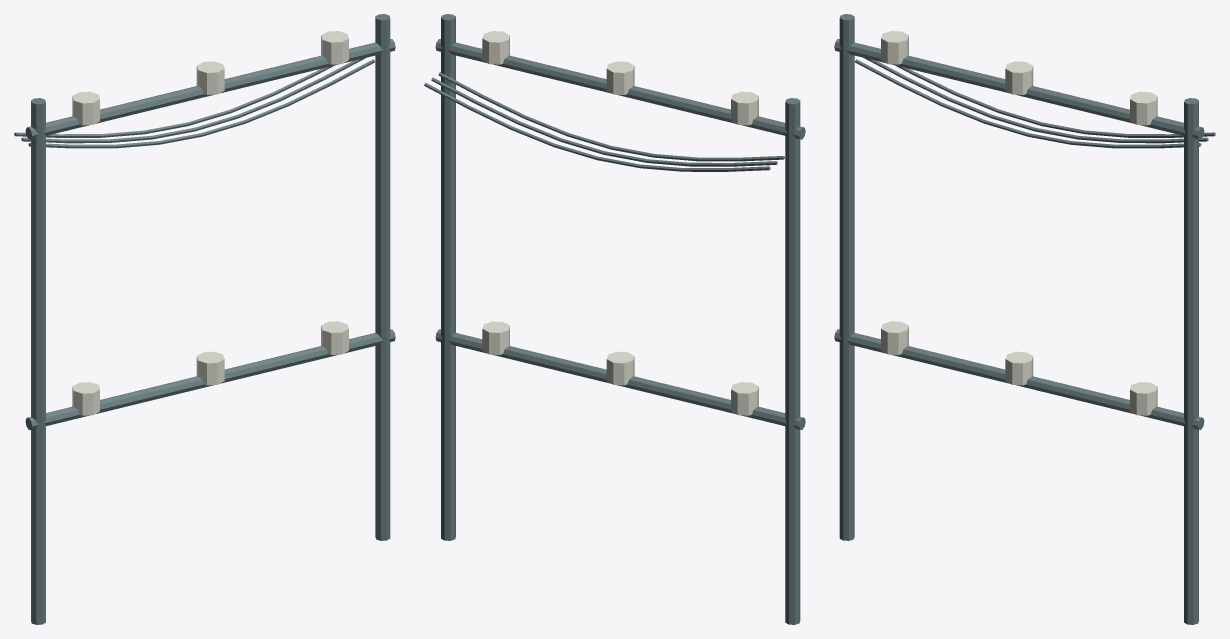
Rendered from utility_rack.fbx.
3 renders of one model, left to right at view 1: azimuth 30°, elevation 25°; view 2: azimuth 150°, elevation 25°; view 3: azimuth 330°, elevation 25°, orthographic.
Visible parts, largest first — view 1: utility_rack__stanchion.001, utility_rack__stanchion, utility_rack__crossbar.001, utility_rack__crossbar, utility_rack__insulator.004, utility_rack__insulator.001, utility_rack__insulator, utility_rack__insulator.002, utility_rack__insulator.005, utility_rack__insulator.003; view 2: utility_rack__stanchion, utility_rack__stanchion.001, utility_rack__crossbar.001, utility_rack__crossbar, utility_rack__insulator.001, utility_rack__insulator.004, utility_rack__insulator, utility_rack__insulator.005, utility_rack__insulator.002, utility_rack__insulator.003; view 3: utility_rack__stanchion, utility_rack__stanchion.001, utility_rack__crossbar.001, utility_rack__crossbar, utility_rack__insulator.004, utility_rack__insulator.001, utility_rack__insulator.002, utility_rack__insulator, utility_rack__insulator.003, utility_rack__insulator.005.
Part boxes in pixels (x1,y1,x2,y2): utility_rack__stanchion.001: (375, 14, 390, 540); utility_rack__stanchion: (31, 98, 45, 624); utility_rack__crossbar.001: (25, 39, 395, 139); utility_rack__crossbar: (25, 329, 395, 429); utility_rack__insulator.004: (196, 61, 224, 94); utility_rack__insulator.001: (196, 351, 224, 385); utility_rack__insulator: (72, 382, 99, 415); utility_rack__insulator.002: (321, 321, 348, 354); utility_rack__insulator.005: (321, 31, 348, 64); utility_rack__insulator.003: (72, 91, 99, 125); utility_rack__stanchion: (785, 98, 800, 624); utility_rack__stanchion.001: (441, 14, 455, 540); utility_rack__crossbar.001: (435, 39, 805, 139); utility_rack__crossbar: (435, 329, 805, 429); utility_rack__insulator.001: (606, 351, 634, 385); utility_rack__insulator.004: (606, 61, 634, 94); utility_rack__insulator: (731, 382, 758, 415); utility_rack__insulator.005: (482, 31, 509, 64); utility_rack__insulator.002: (482, 321, 509, 354); utility_rack__insulator.003: (731, 91, 758, 125); utility_rack__stanchion: (839, 14, 854, 540); utility_rack__stanchion.001: (1184, 98, 1198, 624); utility_rack__crossbar.001: (834, 39, 1204, 139); utility_rack__crossbar: (834, 329, 1204, 429); utility_rack__insulator.004: (1005, 61, 1033, 94); utility_rack__insulator.001: (1005, 351, 1033, 385); utility_rack__insulator.002: (1130, 382, 1157, 415); utility_rack__insulator: (881, 321, 908, 354); utility_rack__insulator.003: (881, 31, 908, 64); utility_rack__insulator.005: (1130, 91, 1157, 125).
Size of the model in its own units: 380 by 520 by 56.71.
